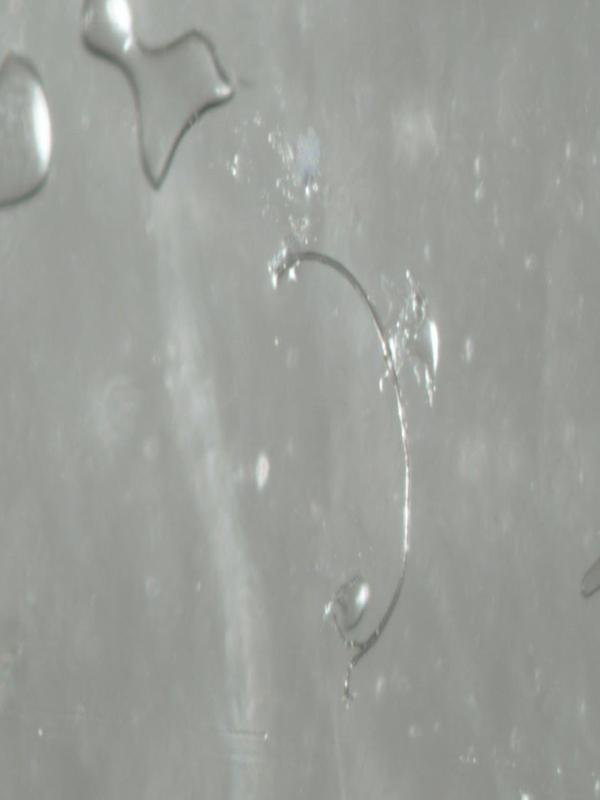microplastic: (268, 245, 439, 707), (78, 0, 235, 190)
